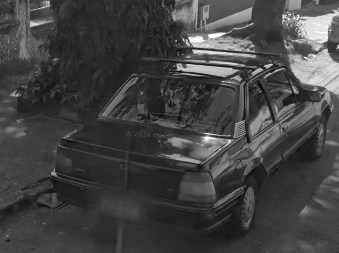car: (52, 53, 335, 235)
